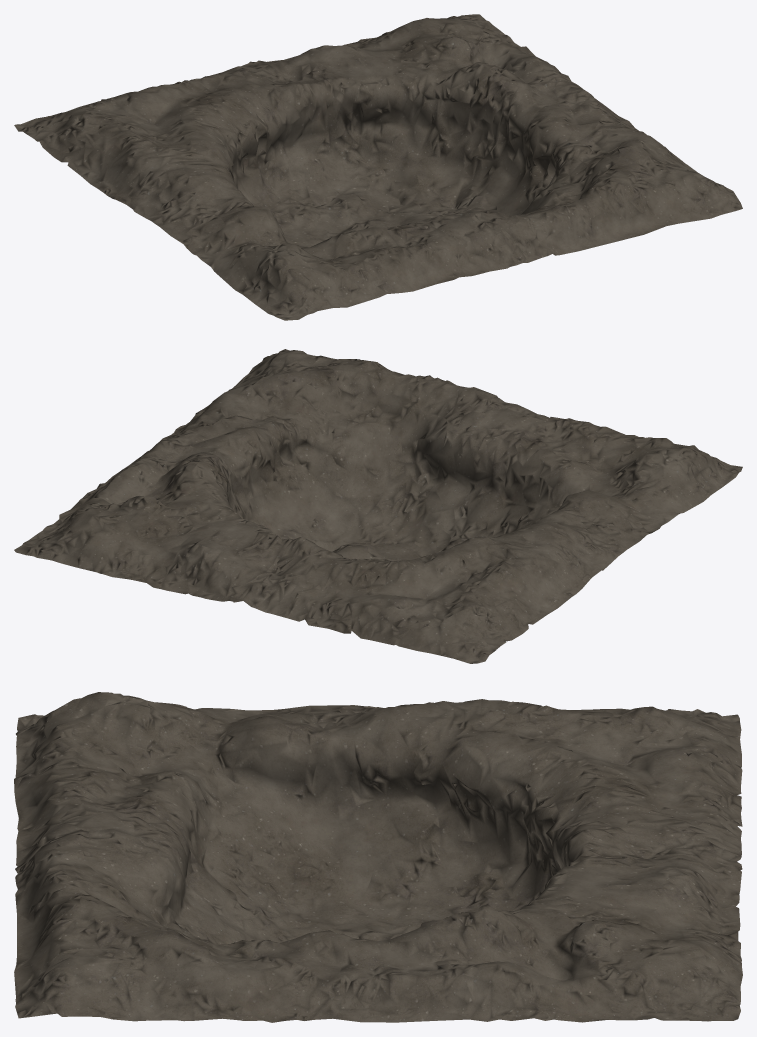
File: SM_GroundMudCrater_8x8_01.glb
3 views of the same model, one above another, from view 1: azimuth 30°, elevation 25°; view 2: azimuth 150°, elevation 25°; view 3: azimuth 270°, elevation 25° (orthographic). The views are drawn at different scales.
Visible parts, largest first — view 1: SM_GroundMudCrater_8x8_01; view 2: SM_GroundMudCrater_8x8_01; view 3: SM_GroundMudCrater_8x8_01.
Part boxes in pixels (<box>): SM_GroundMudCrater_8x8_01: <box>14,14,742,320</box>; SM_GroundMudCrater_8x8_01: <box>14,349,742,663</box>; SM_GroundMudCrater_8x8_01: <box>14,692,742,1022</box>.
Bounding box in the file's own units: 8.07 × 1.86 × 8.06.
1 material, 1 textured.
